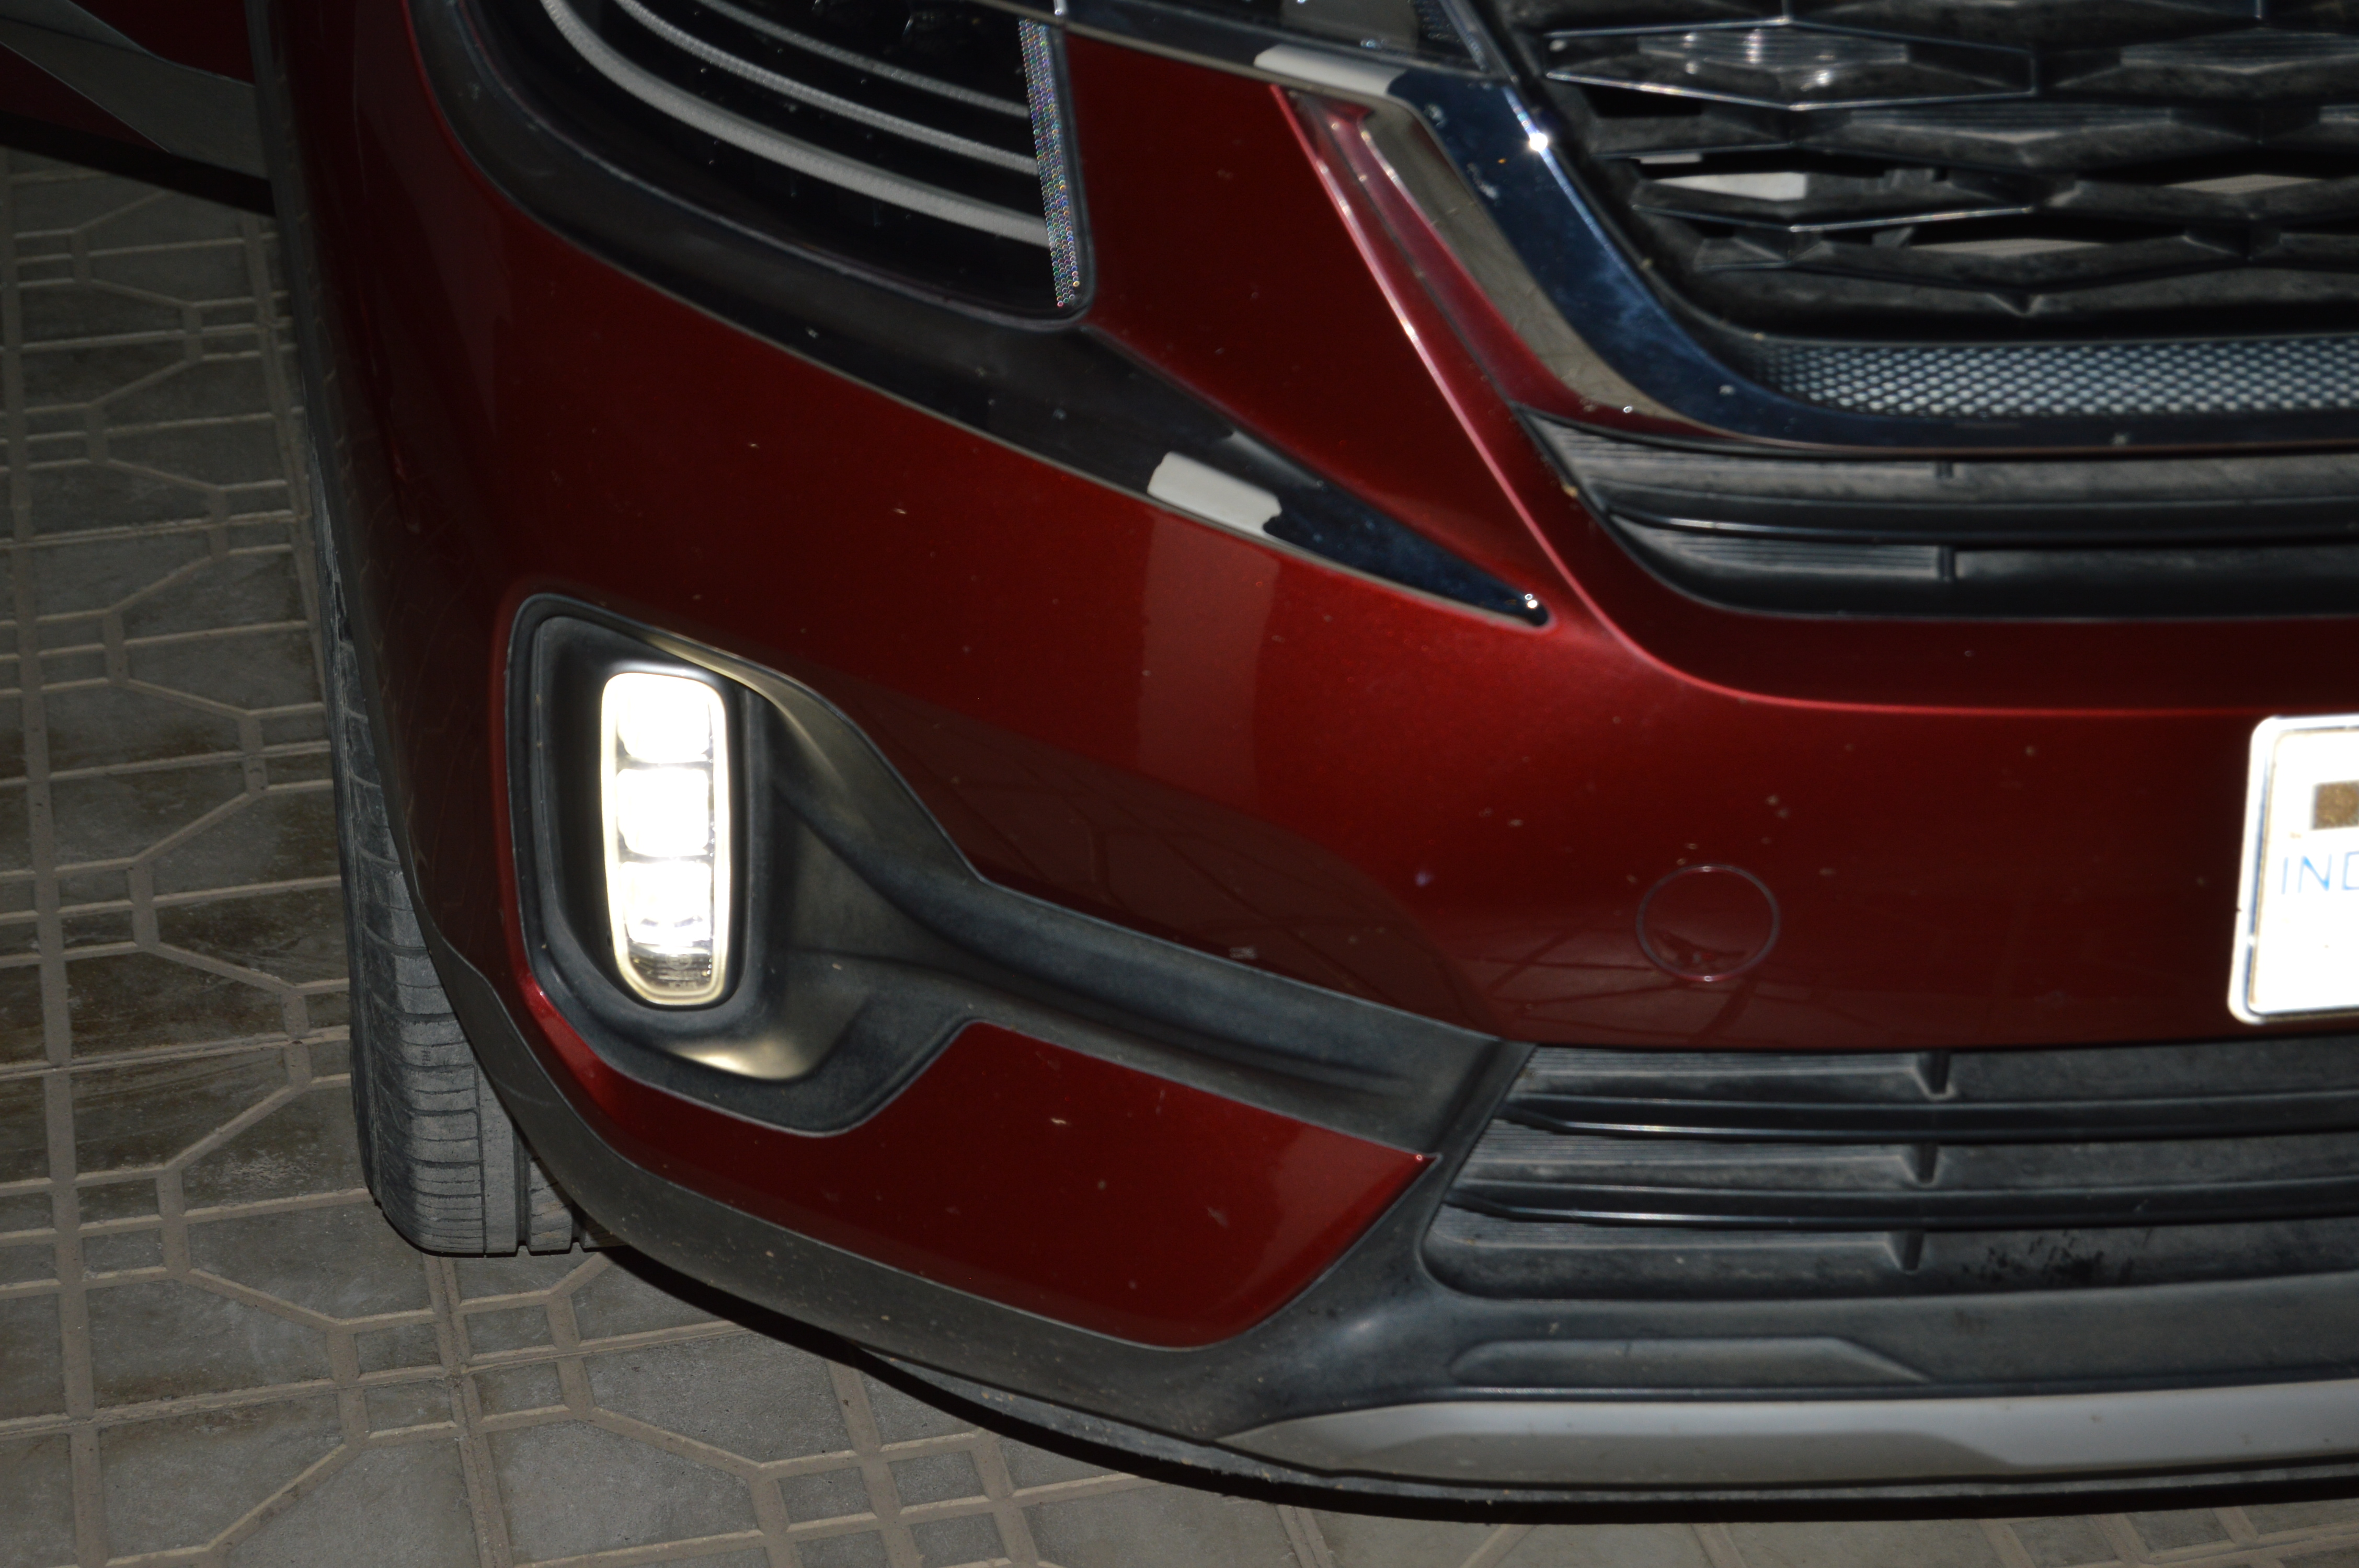Glare: (557, 639, 786, 1020), (2233, 696, 2359, 1022)
